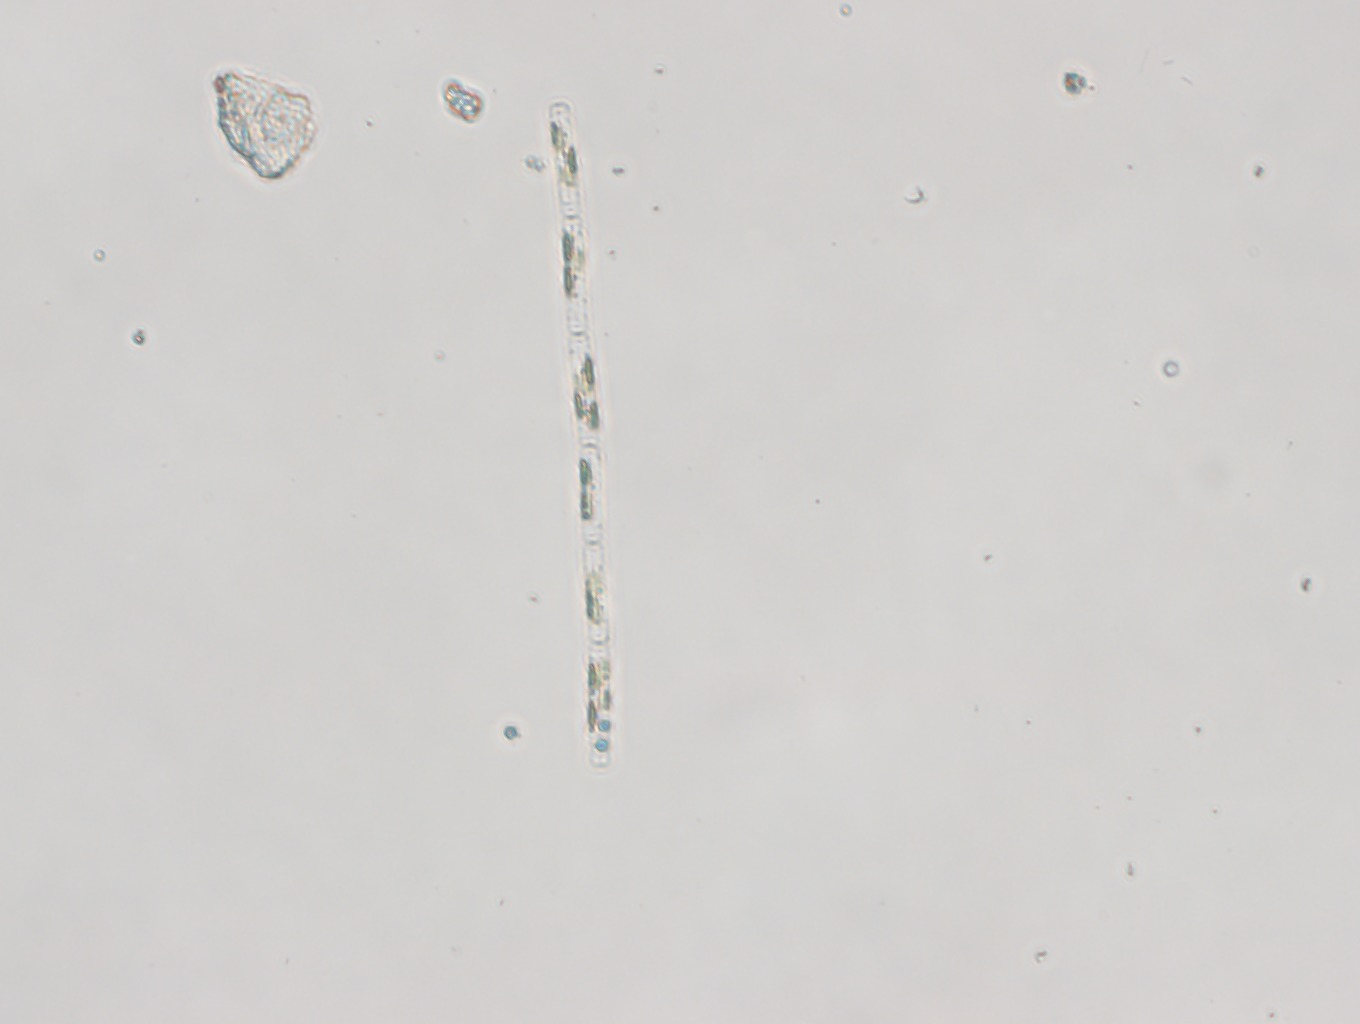guinardia flaccida: (542, 103, 621, 772)
